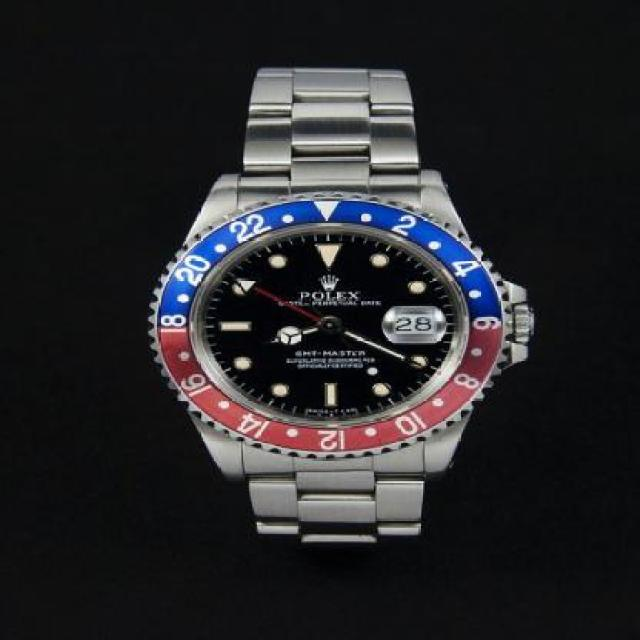clock: (198, 236, 458, 419)
